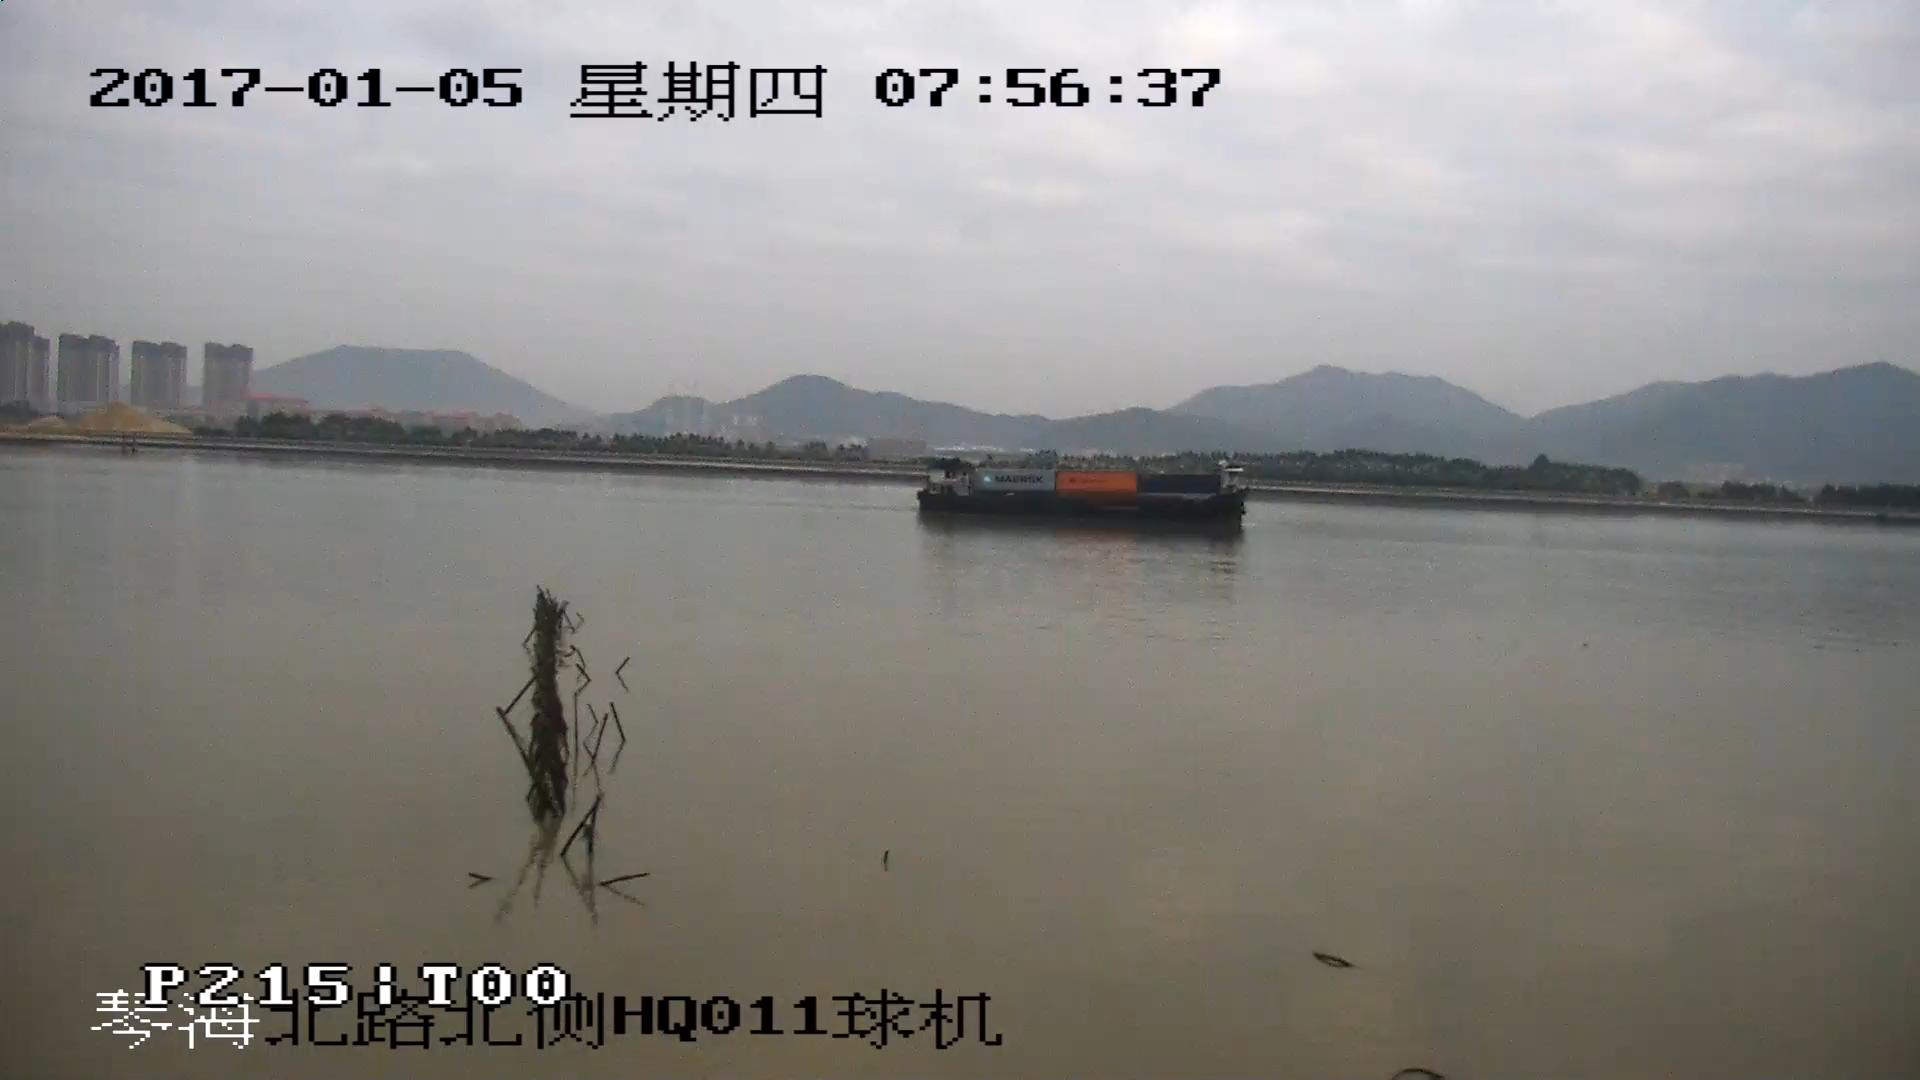container ship: (916, 465, 1246, 529)
